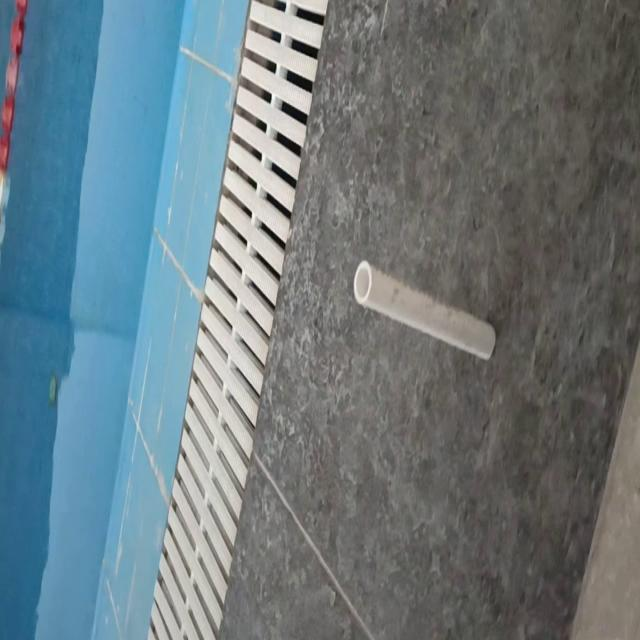Cube: (352, 258, 496, 362)
